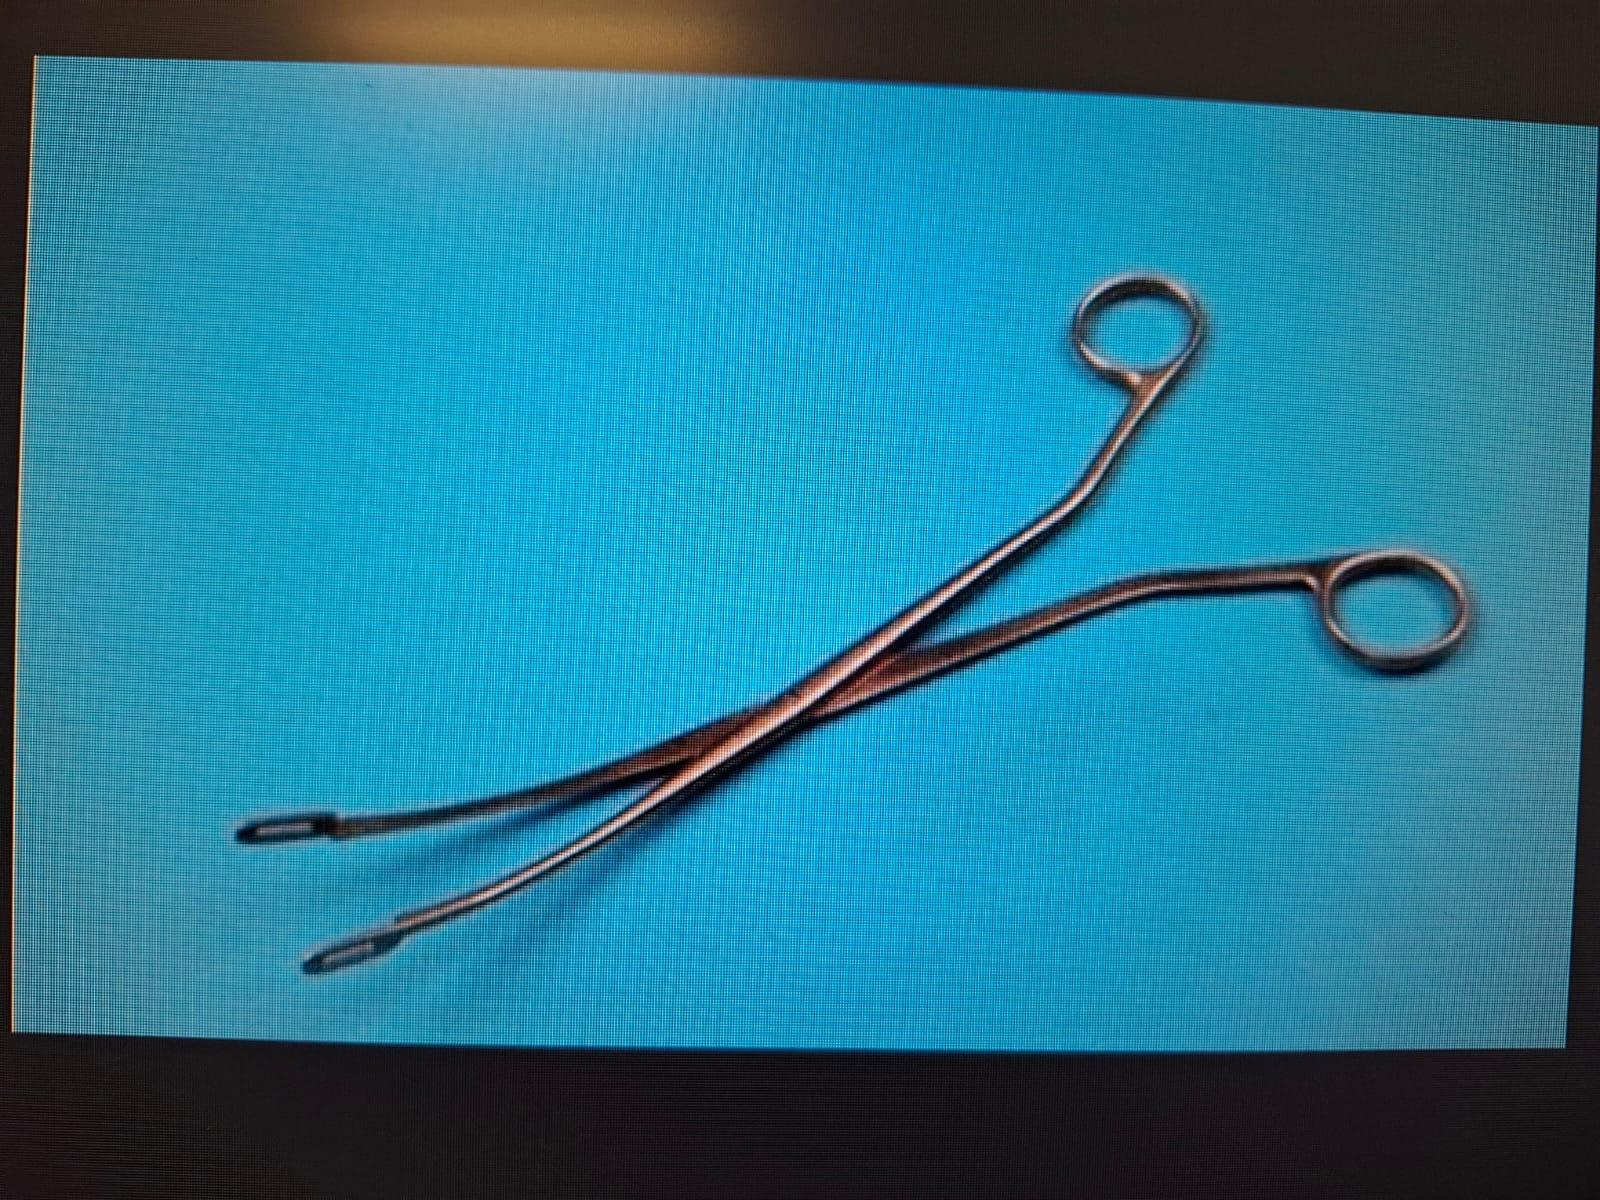Desjardin Forceps: (222, 245, 1490, 1010)
